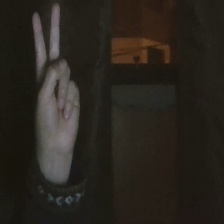V: (23, 1, 86, 163)
